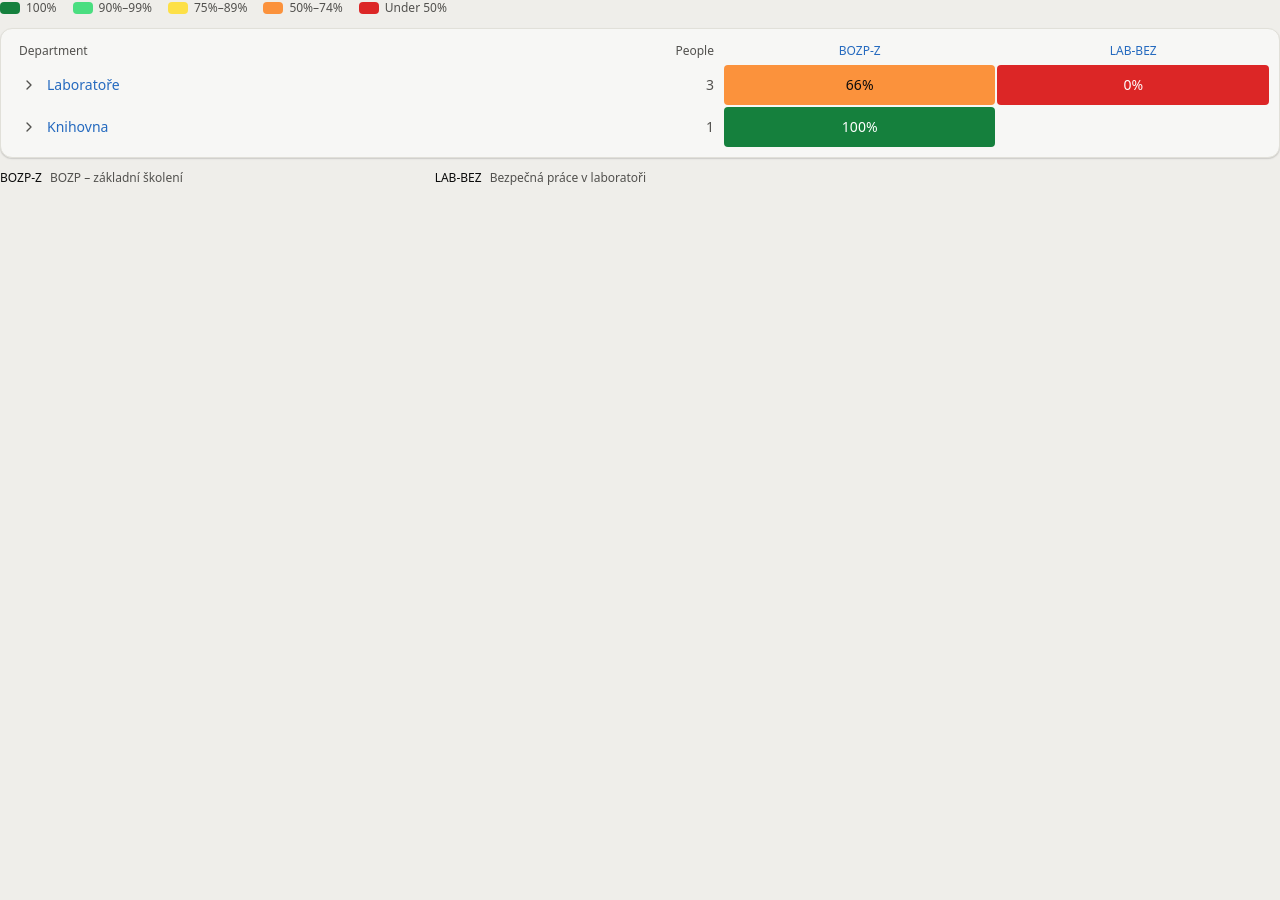
Test: compliance matrix › opens a cell into its people, most urgent first, and returns focus on close
This screenshot has width=1280, height=900.
Click the button named "Laboratoře, BOZP – základní školení: 66%, show people": (860, 85) x1=724 y1=65 x2=995 y2=105
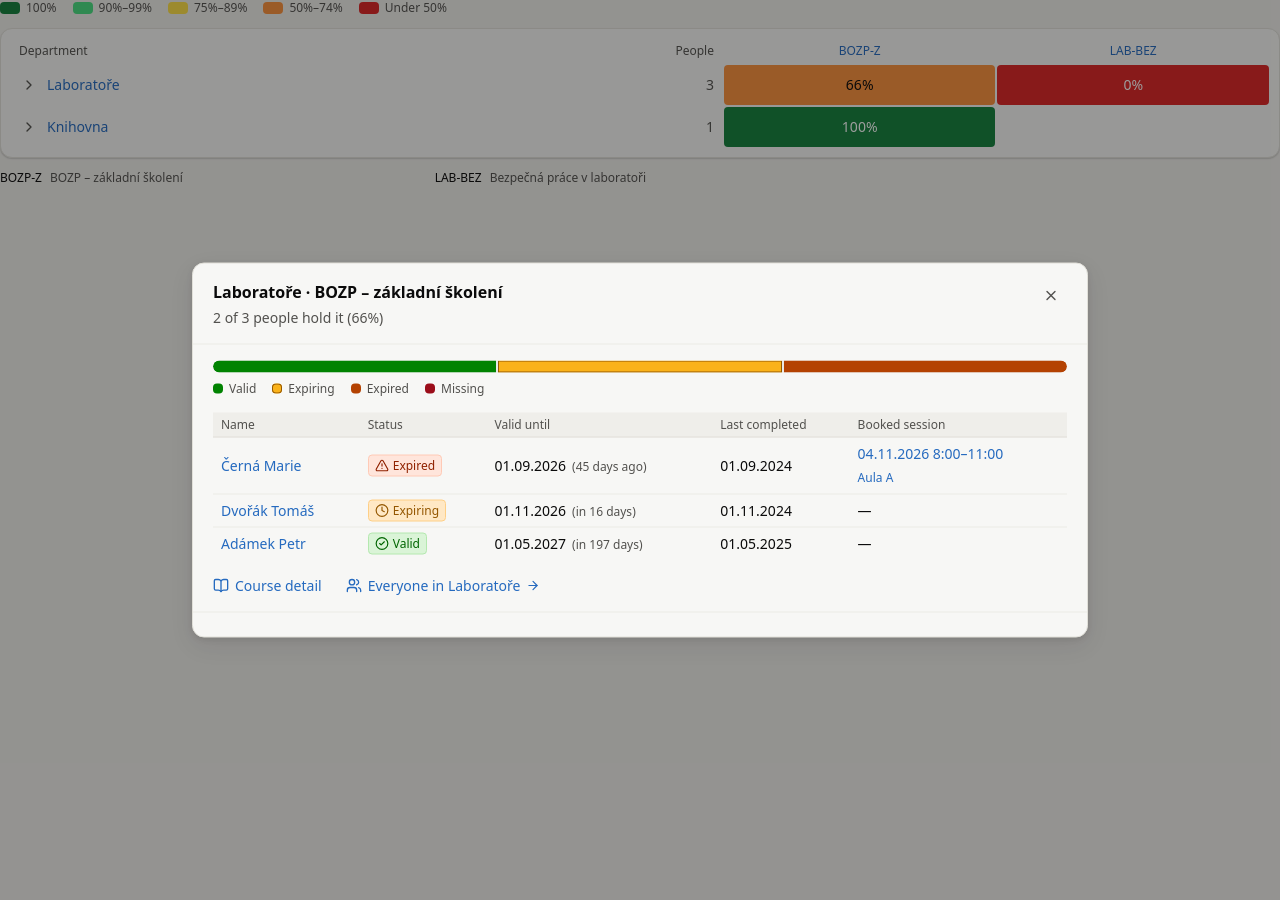
Check: the text "2 of 3 people hold it (66%)" is shown, box x1=213 y1=308 x2=383 y2=326
Check: the text "(45 days ago)" is shown, box x1=572 y1=458 x2=646 y2=474
Press Escape
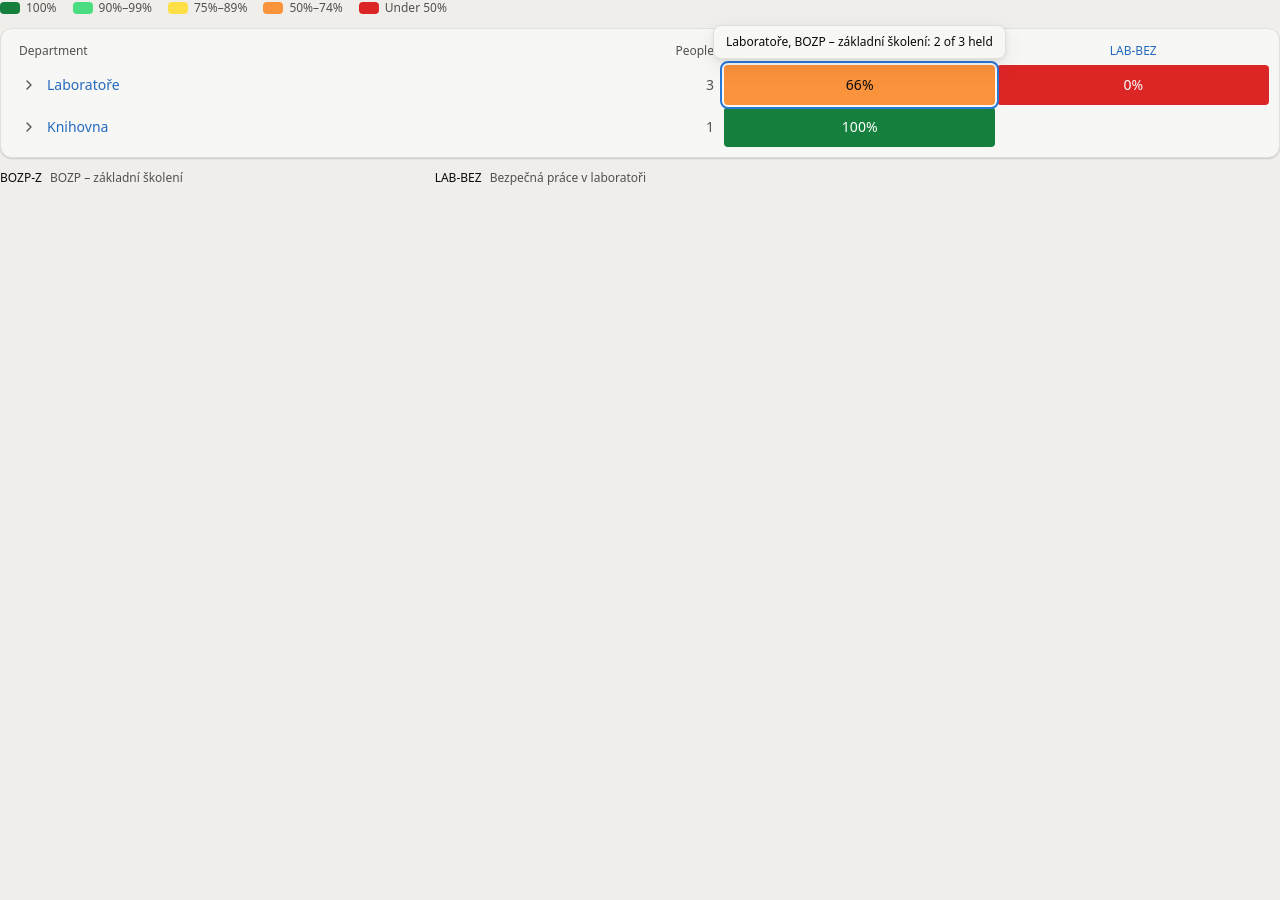
Check: the dialog is gone
